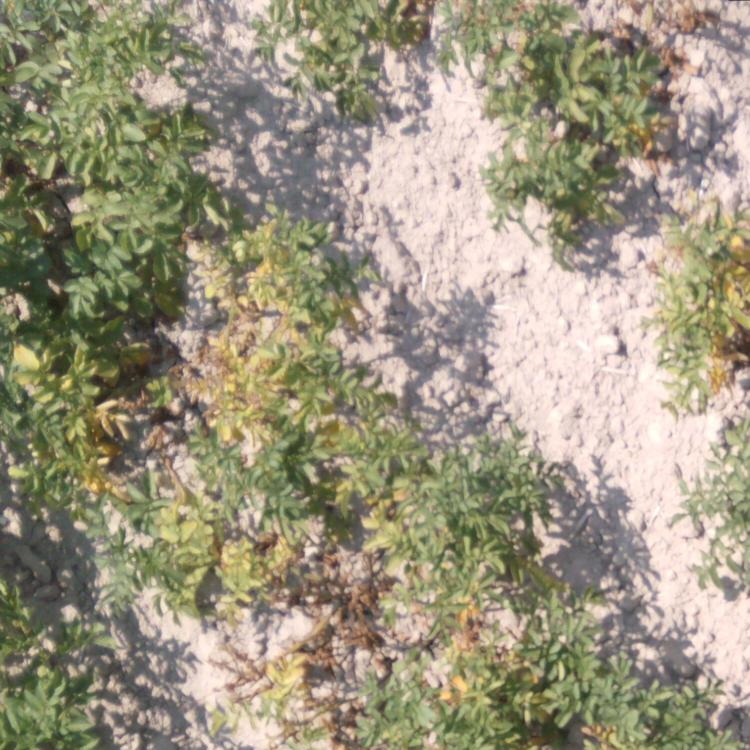healthy: (1, 1, 191, 277), (464, 1, 662, 241), (253, 1, 423, 116), (1, 578, 91, 744), (689, 415, 750, 577)
stressed: (204, 199, 391, 423), (323, 433, 574, 599), (453, 615, 731, 750), (232, 603, 452, 742), (1, 290, 145, 494), (155, 431, 306, 592), (653, 185, 750, 399)
